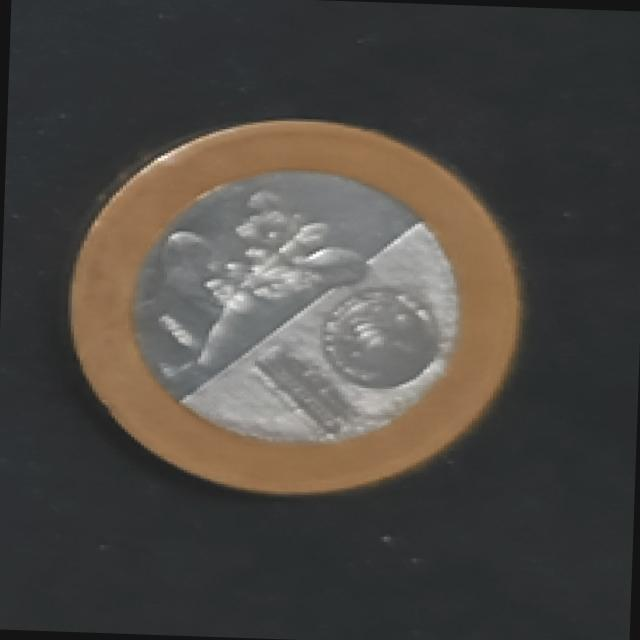20_peso: (70, 122, 515, 490)
